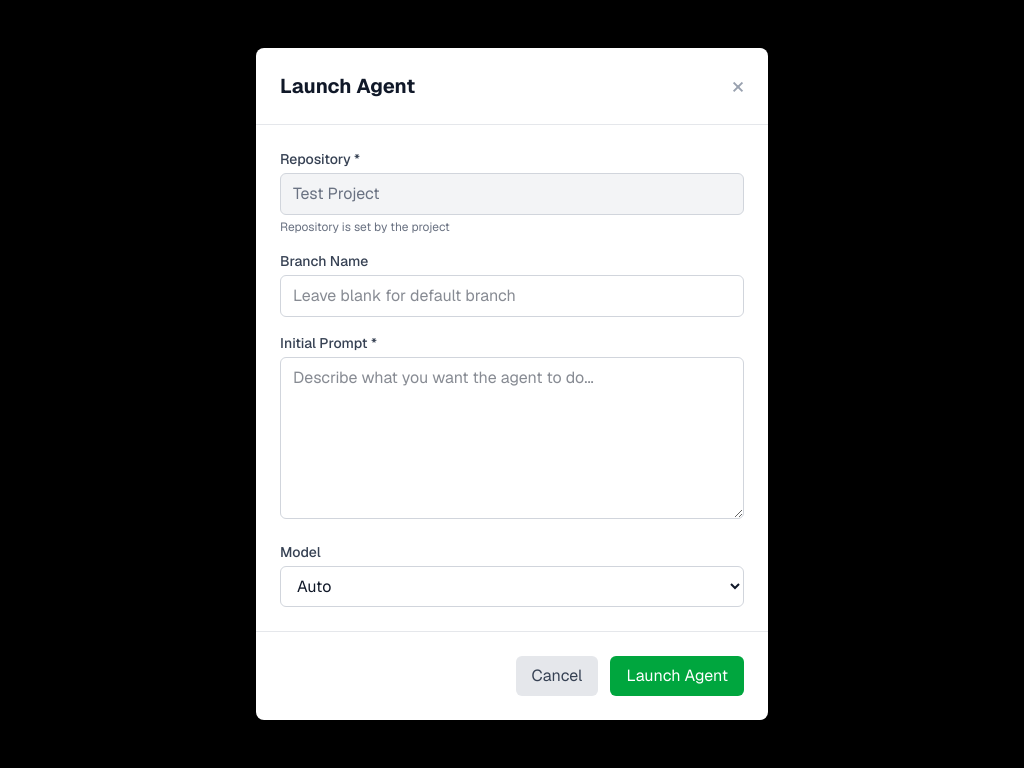
Test: LaunchAgentModal › should show error when API key is missing
Type "Test prompt" into the text box labelled "Initial Prompt *" at (512, 438), box [280,357,744,519]
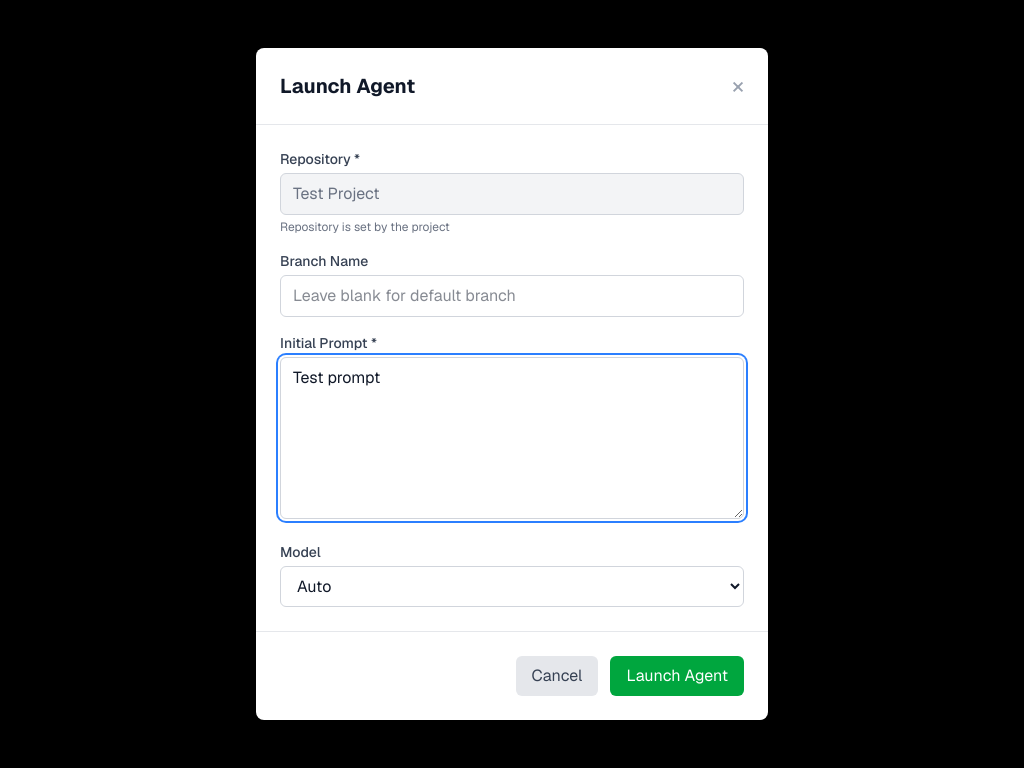
Click the button "Launch Agent" at (677, 676), box [610,656,744,696]
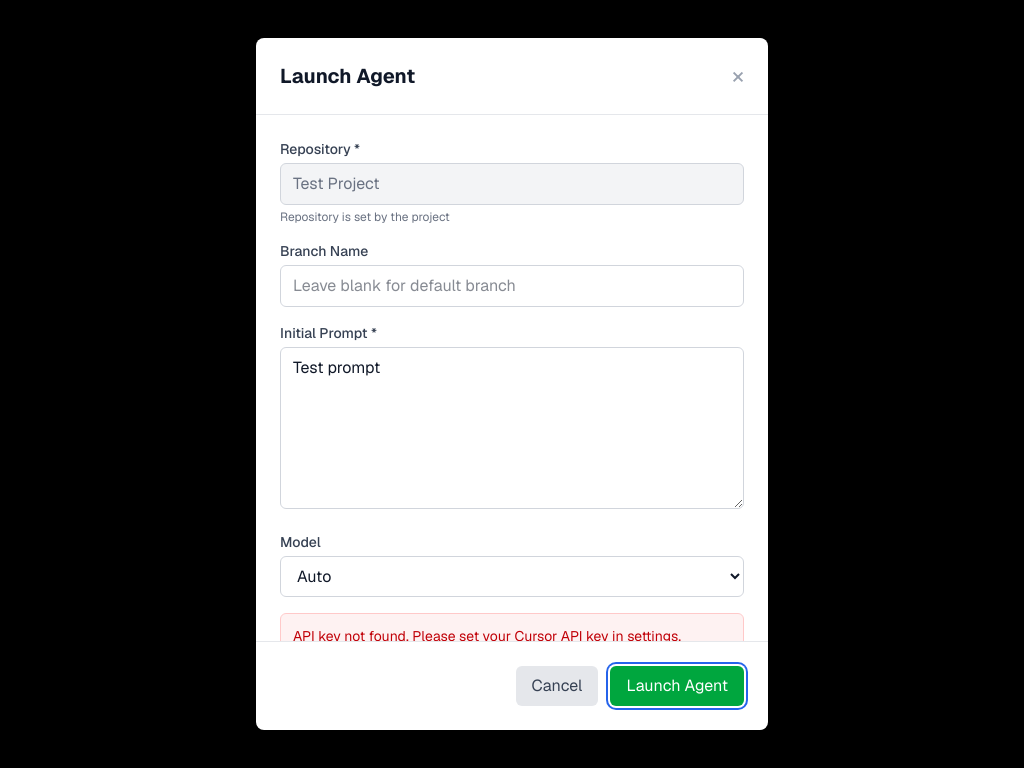
Now the text "API key not found" is shown, box [293,627,681,641]
